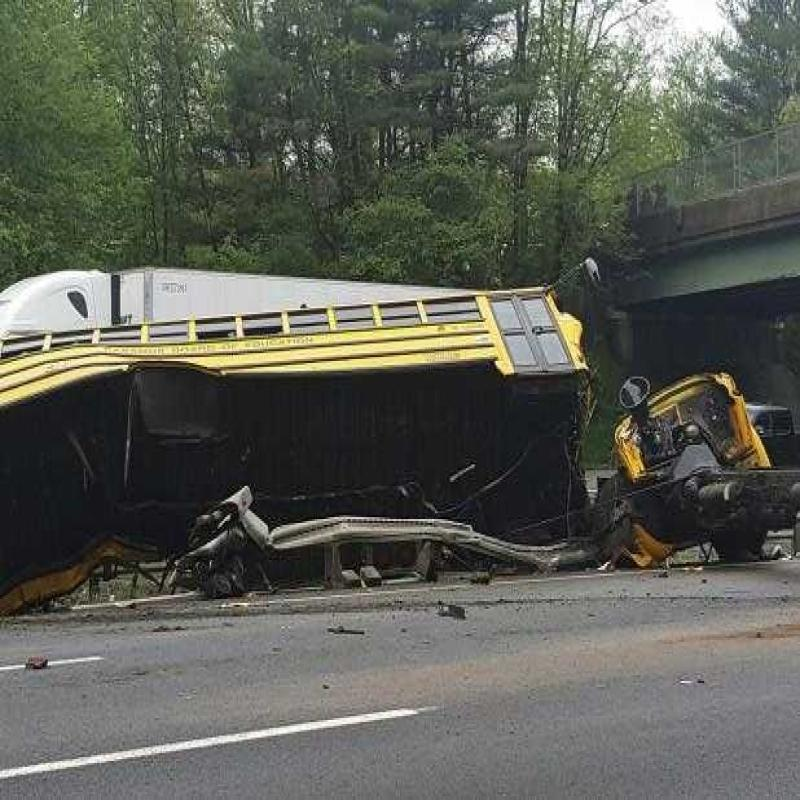bus: (29, 215, 628, 631)
